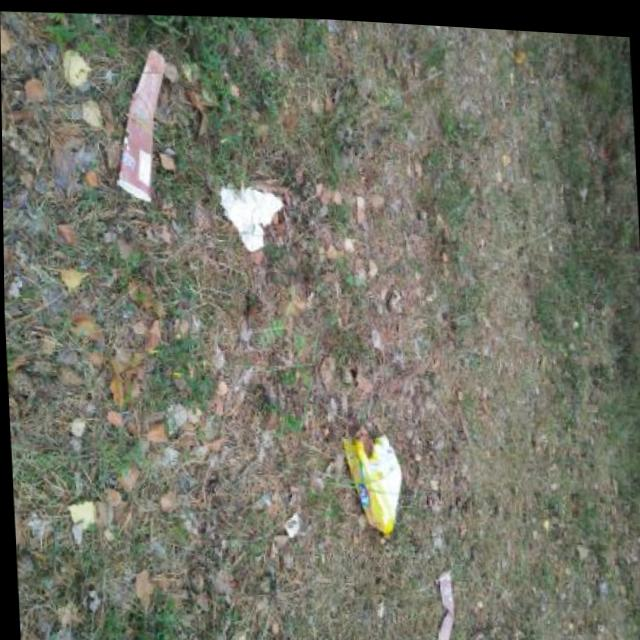cardboard: (446, 135, 601, 205), (17, 424, 104, 453)
paper: (403, 239, 474, 310)
plastic: (126, 344, 233, 412)
